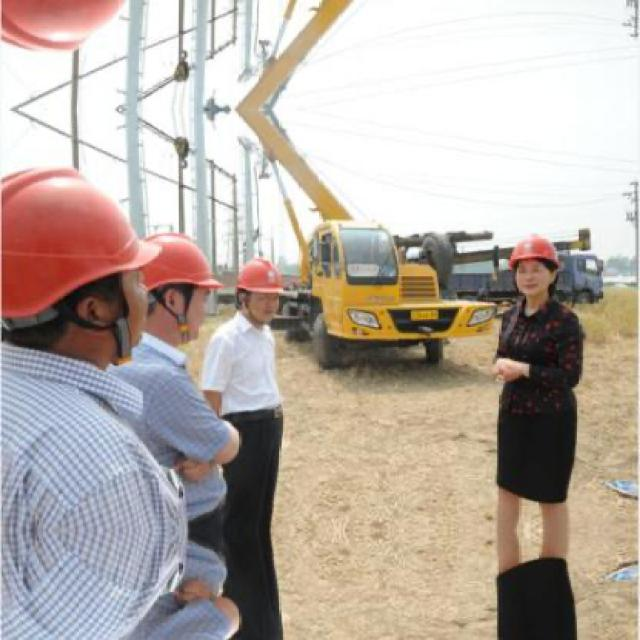con casco: (0, 188, 143, 360), (129, 220, 241, 338), (485, 238, 580, 302), (226, 240, 295, 326)
